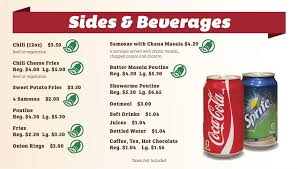coke: (195, 67, 247, 161)
